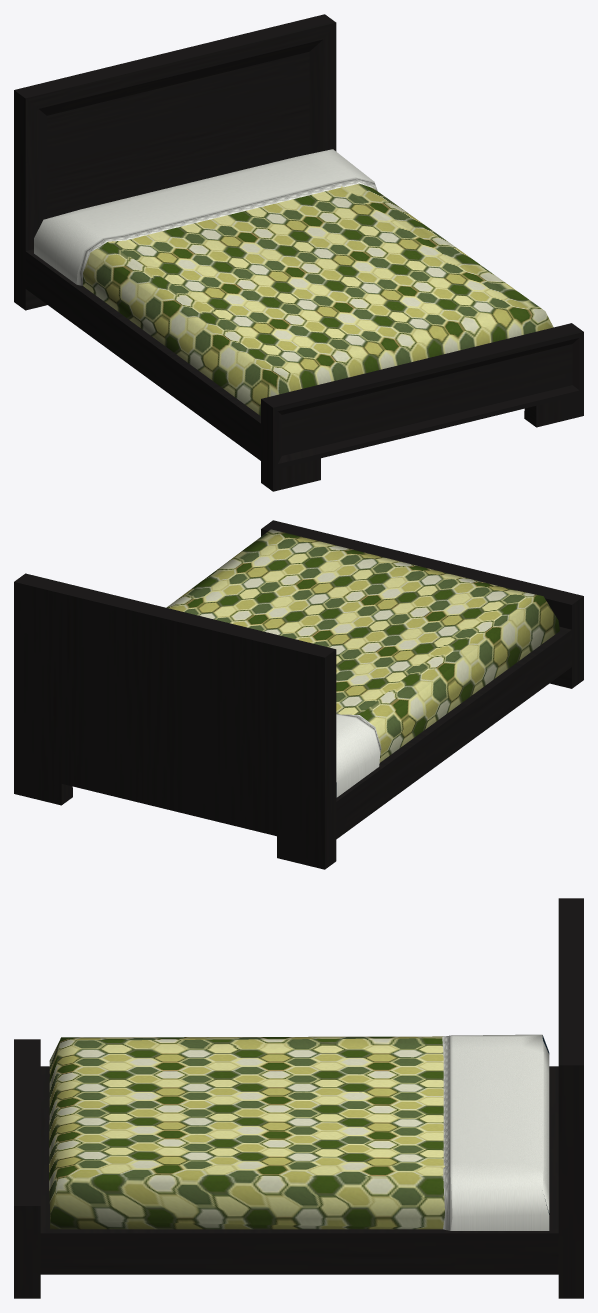
File: Bed_D_2.FBX
3 renders of one model, top to bottom at view 1: azimuth 30°, elevation 25°; view 2: azimuth 150°, elevation 25°; view 3: azimuth 270°, elevation 25°, orthographic. The views are drawn at different scales.
Parts seen in each view (by area): view 1: Bed; view 2: Bed; view 3: Bed.
Part boxes in pixels (box(x1,y1,x2,y2)): Bed: box(14, 14, 583, 491); Bed: box(14, 520, 583, 869); Bed: box(14, 898, 583, 1298).
Bounding box in the file's own units: 397 × 259 × 573.
